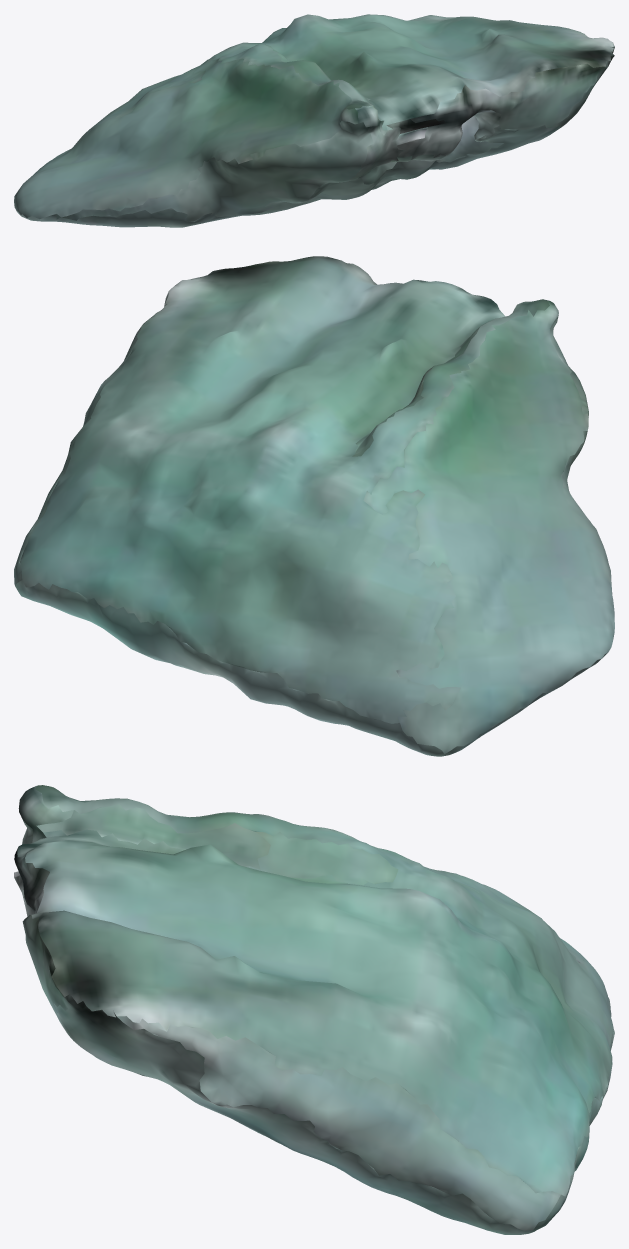
Rendered from 32_desk.glb.
The picture shows the model from 3 angles, top to bottom: view 1: azimuth 30°, elevation 25°; view 2: azimuth 150°, elevation 25°; view 3: azimuth 270°, elevation 25°; orthographic projection. The views are drawn at different scales.
Visible parts, largest first — view 1: 32_desk; view 2: 32_desk; view 3: 32_desk.
Part boxes in pixels (bbox=[...]): 32_desk: bbox=[14, 14, 614, 227]; 32_desk: bbox=[14, 256, 614, 756]; 32_desk: bbox=[14, 785, 614, 1234].
Bounding box in the file's own units: 6.58 × 2.89 × 5.13.
Materials: 1 (1 with a texture image).
